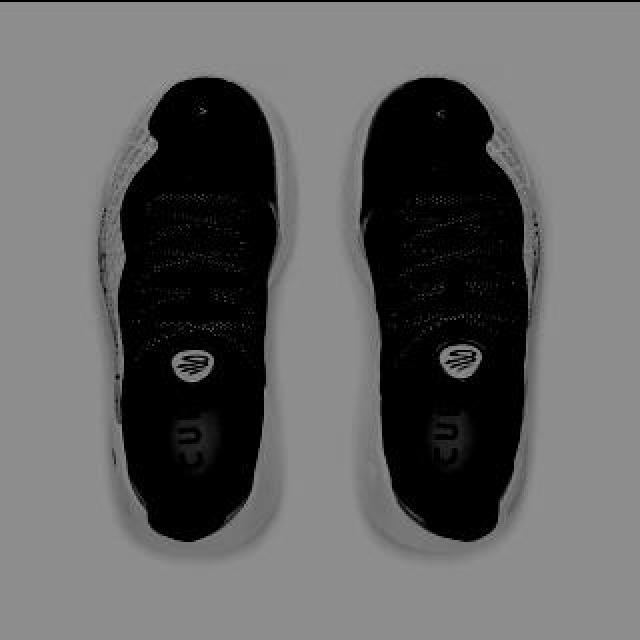shoe: (92, 74, 300, 558), (336, 74, 540, 554)
